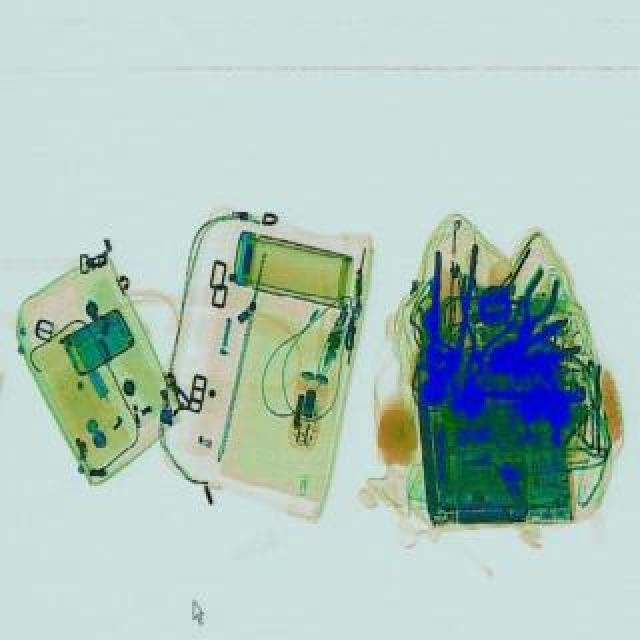wrench: (434, 270, 530, 392), (420, 238, 480, 388), (476, 312, 584, 382), (504, 262, 568, 350)
